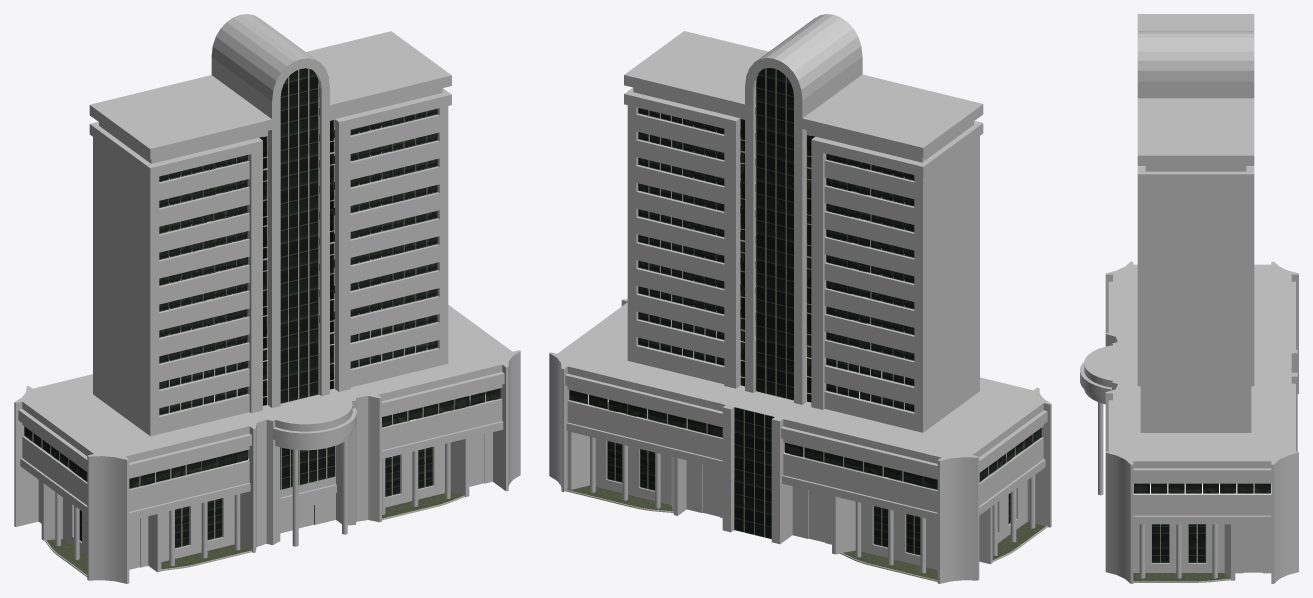
The picture shows the model from 3 angles, left to right: view 1: azimuth 30°, elevation 25°; view 2: azimuth 150°, elevation 25°; view 3: azimuth 270°, elevation 25°; orthographic projection. The views are drawn at different scales.
Parts seen in each view (by area): view 1: BC-P08; view 2: BC-P08; view 3: BC-P08.
Part boxes in pixels (bbox=[...]): BC-P08: bbox=[14, 14, 520, 583]; BC-P08: bbox=[549, 14, 1051, 583]; BC-P08: bbox=[1080, 14, 1298, 583].
Size of what is drawn, in the model's own units: 58.31 by 60.12 by 26.57.
